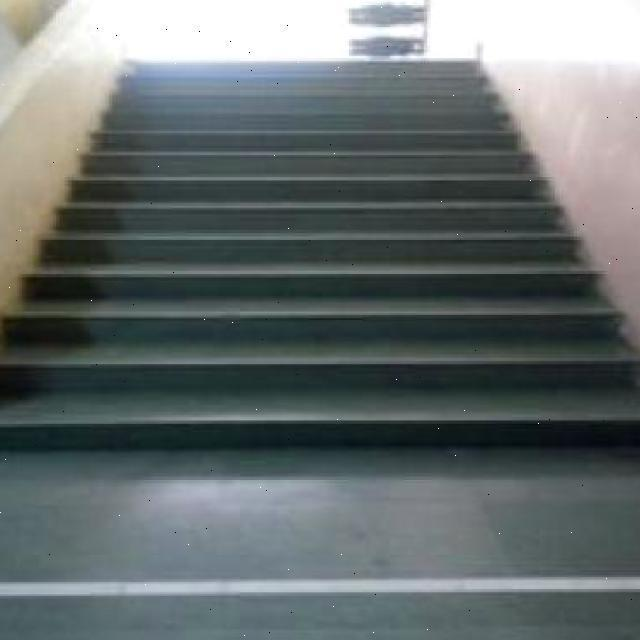stair: (22, 223, 574, 480)
